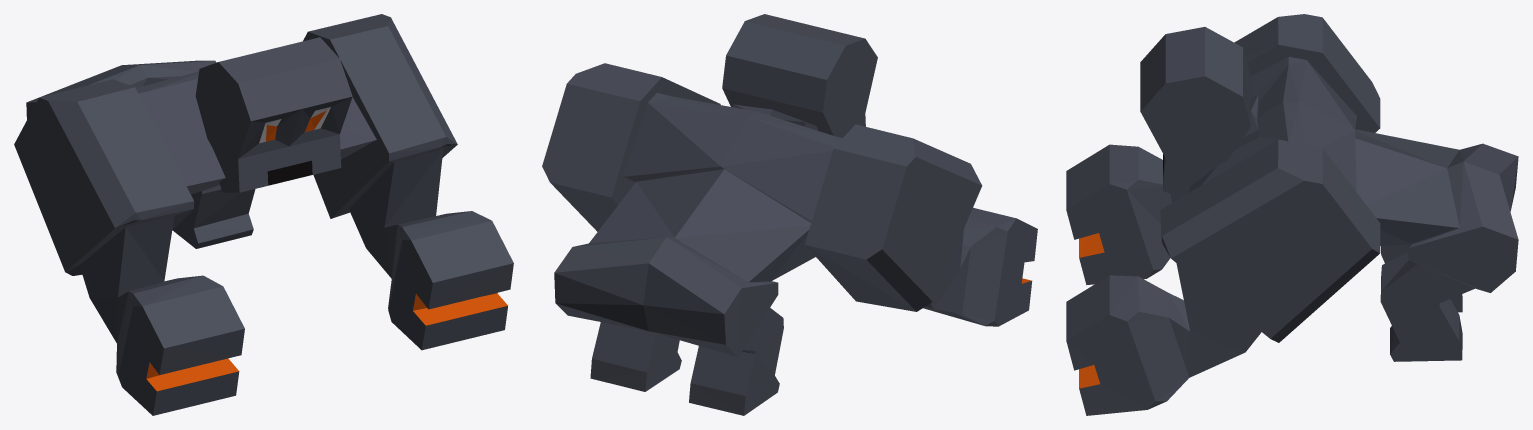
The model's file is kong_000022.obj.
3 renders of one model, left to right at view 1: azimuth 30°, elevation 25°; view 2: azimuth 150°, elevation 25°; view 3: azimuth 270°, elevation 25°, orthographic.
Visible parts, largest first — view 1: Cube; view 2: Cube; view 3: Cube.
Boxes of the visible parts, x1=… form: Cube: x1=14, y1=14, x2=513, y2=415; Cube: x1=542, y1=14, x2=1037, y2=415; Cube: x1=1066, y1=14, x2=1518, y2=415.
Bounding box in the file's own units: 5.84 × 4.44 × 6.52.
1 material, 1 textured.
